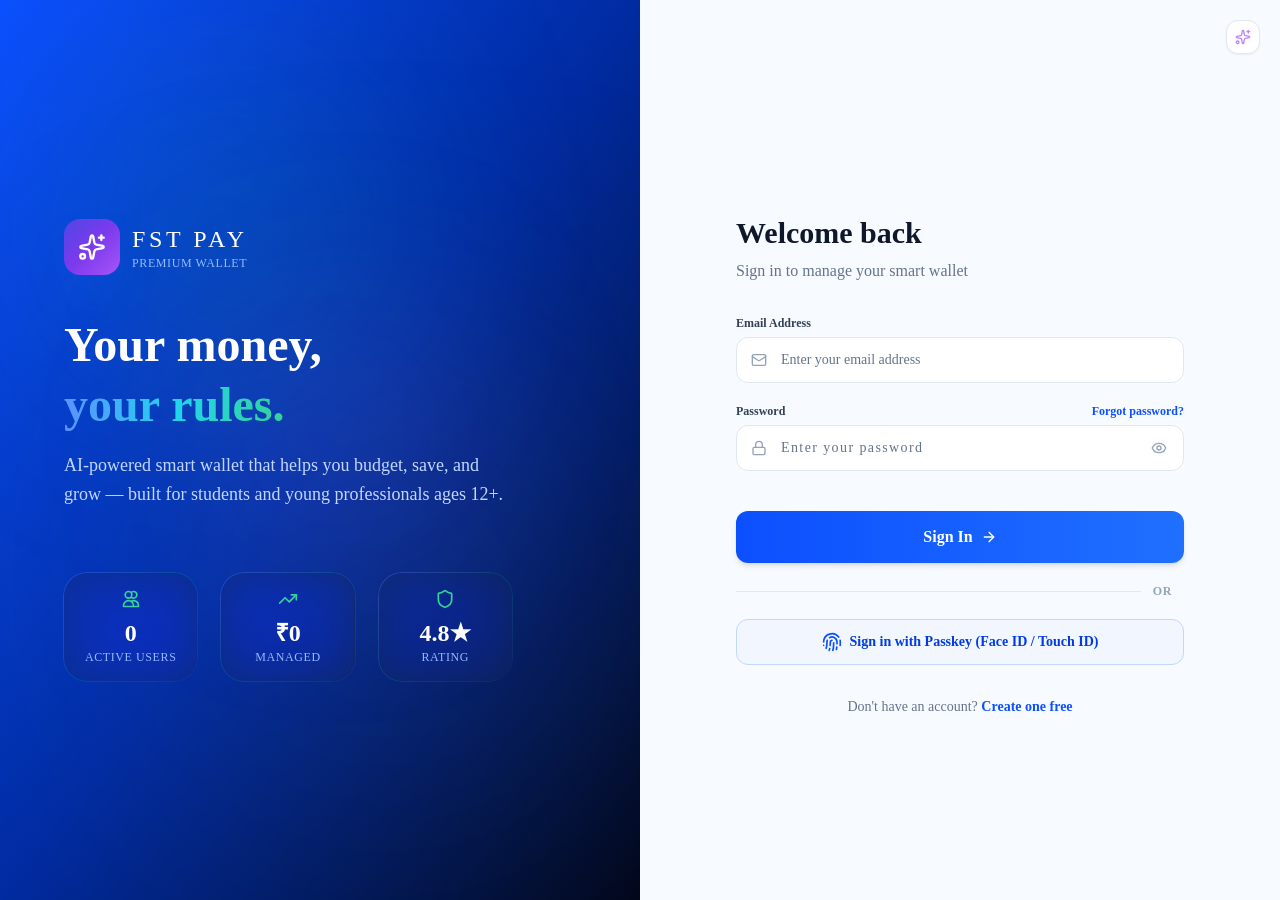
Login - Biometric Passkey WebAuthn Authentication › displays error banner if biometric verification is cancelled or fails
The image size is (1280, 900).
Step 1. Click the button "Sign in with Passkey (Face ID / Touch ID)" → (960, 642), box left=736, top=619, right=1184, bottom=665
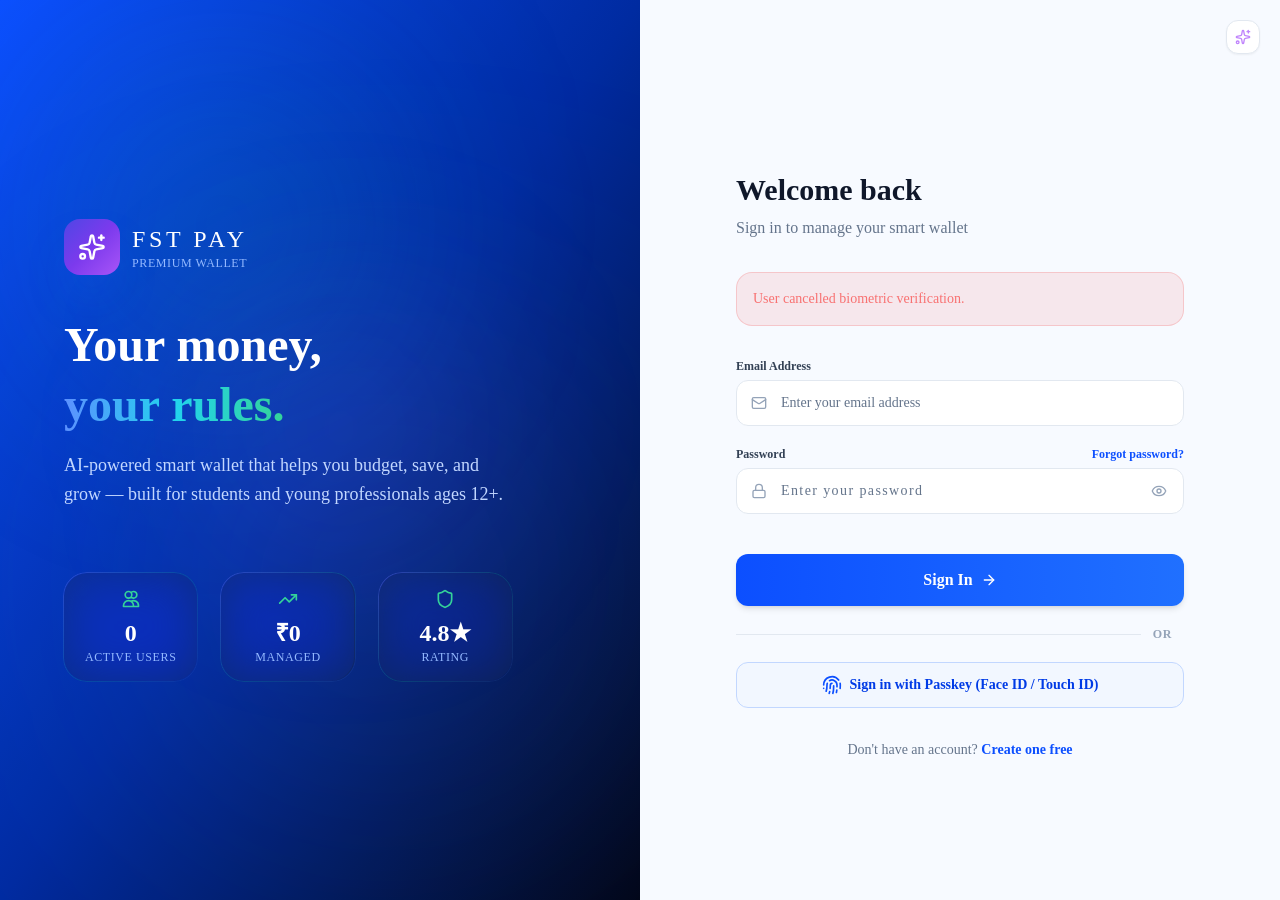
Result: the text "User cancelled biometric verification." is shown at left=736, top=272, right=1184, bottom=326
